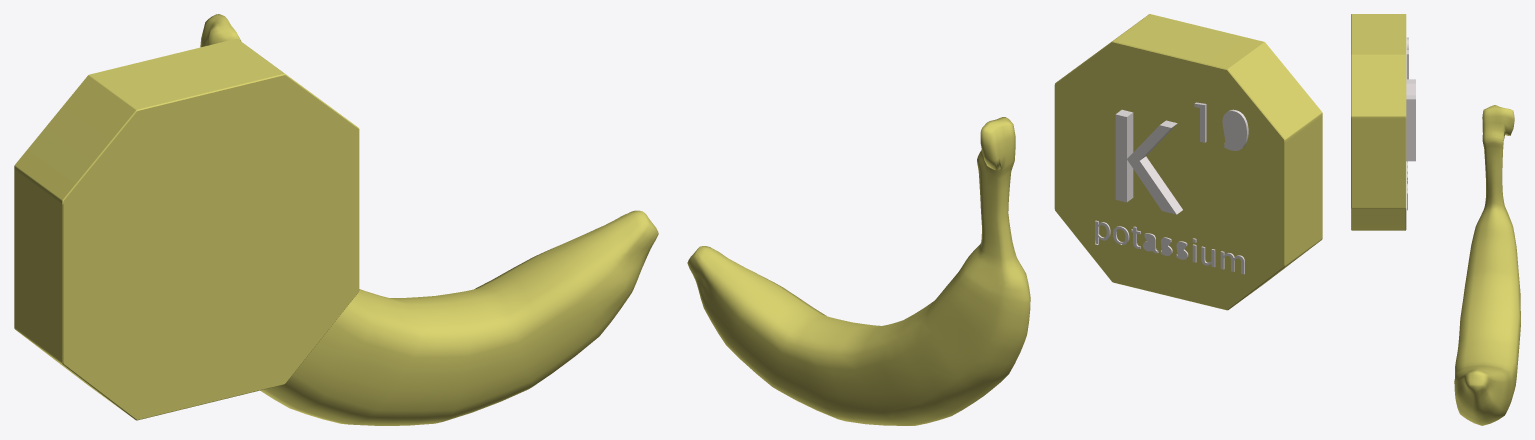
Rendered from Potassium Object.fbx.
3 views of the same model, side by side, from view 1: azimuth 30°, elevation 25°; view 2: azimuth 150°, elevation 25°; view 3: azimuth 270°, elevation 25° (orthographic). The views are drawn at different scales.
Visible parts, largest first — view 1: pCube1, Cube.001; view 2: pCube1, Cube.001, typeMesh1, typeMesh3, typeMesh2; view 3: Cube.001, pCube1, typeMesh1.
Part boxes in pixels (x1,y1,x2,y2): pCube1: [14, 38, 359, 420]; Cube.001: [200, 14, 658, 425]; pCube1: [1054, 14, 1322, 310]; Cube.001: [687, 117, 1030, 425]; typeMesh1: [1115, 109, 1182, 214]; typeMesh3: [1095, 220, 1244, 274]; typeMesh2: [1194, 102, 1248, 150]; Cube.001: [1454, 105, 1520, 425]; pCube1: [1351, 14, 1406, 230]; typeMesh1: [1406, 79, 1415, 161].
Bounding box in the file's own units: 2.37 × 1.61 × 0.8757.
